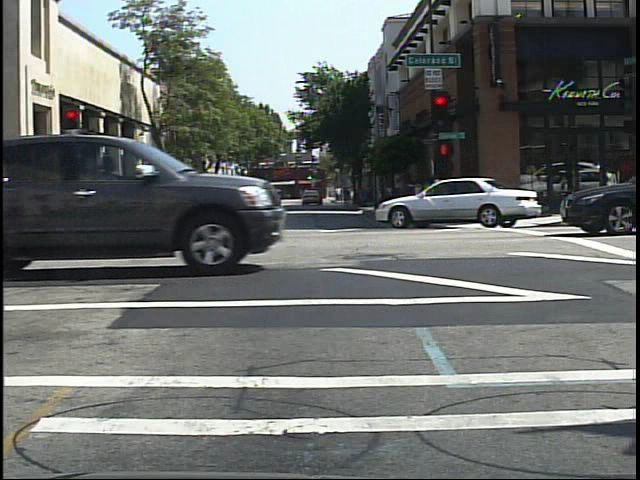person: (106, 180, 124, 223)
